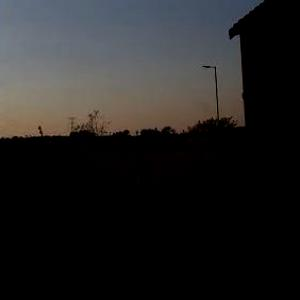follow: (119, 153, 170, 299)
